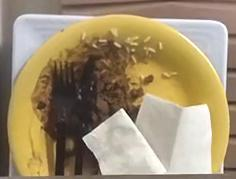beef: (65, 71, 144, 123)
rice: (66, 30, 156, 87)
